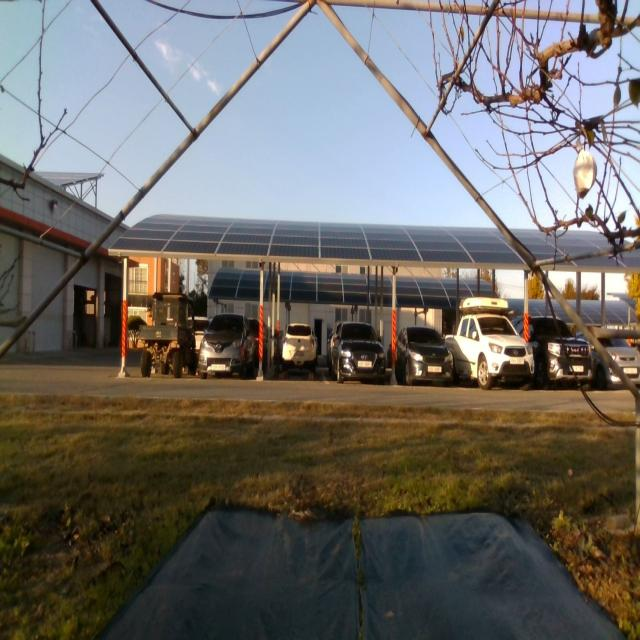pearbags: (574, 150, 597, 200)
